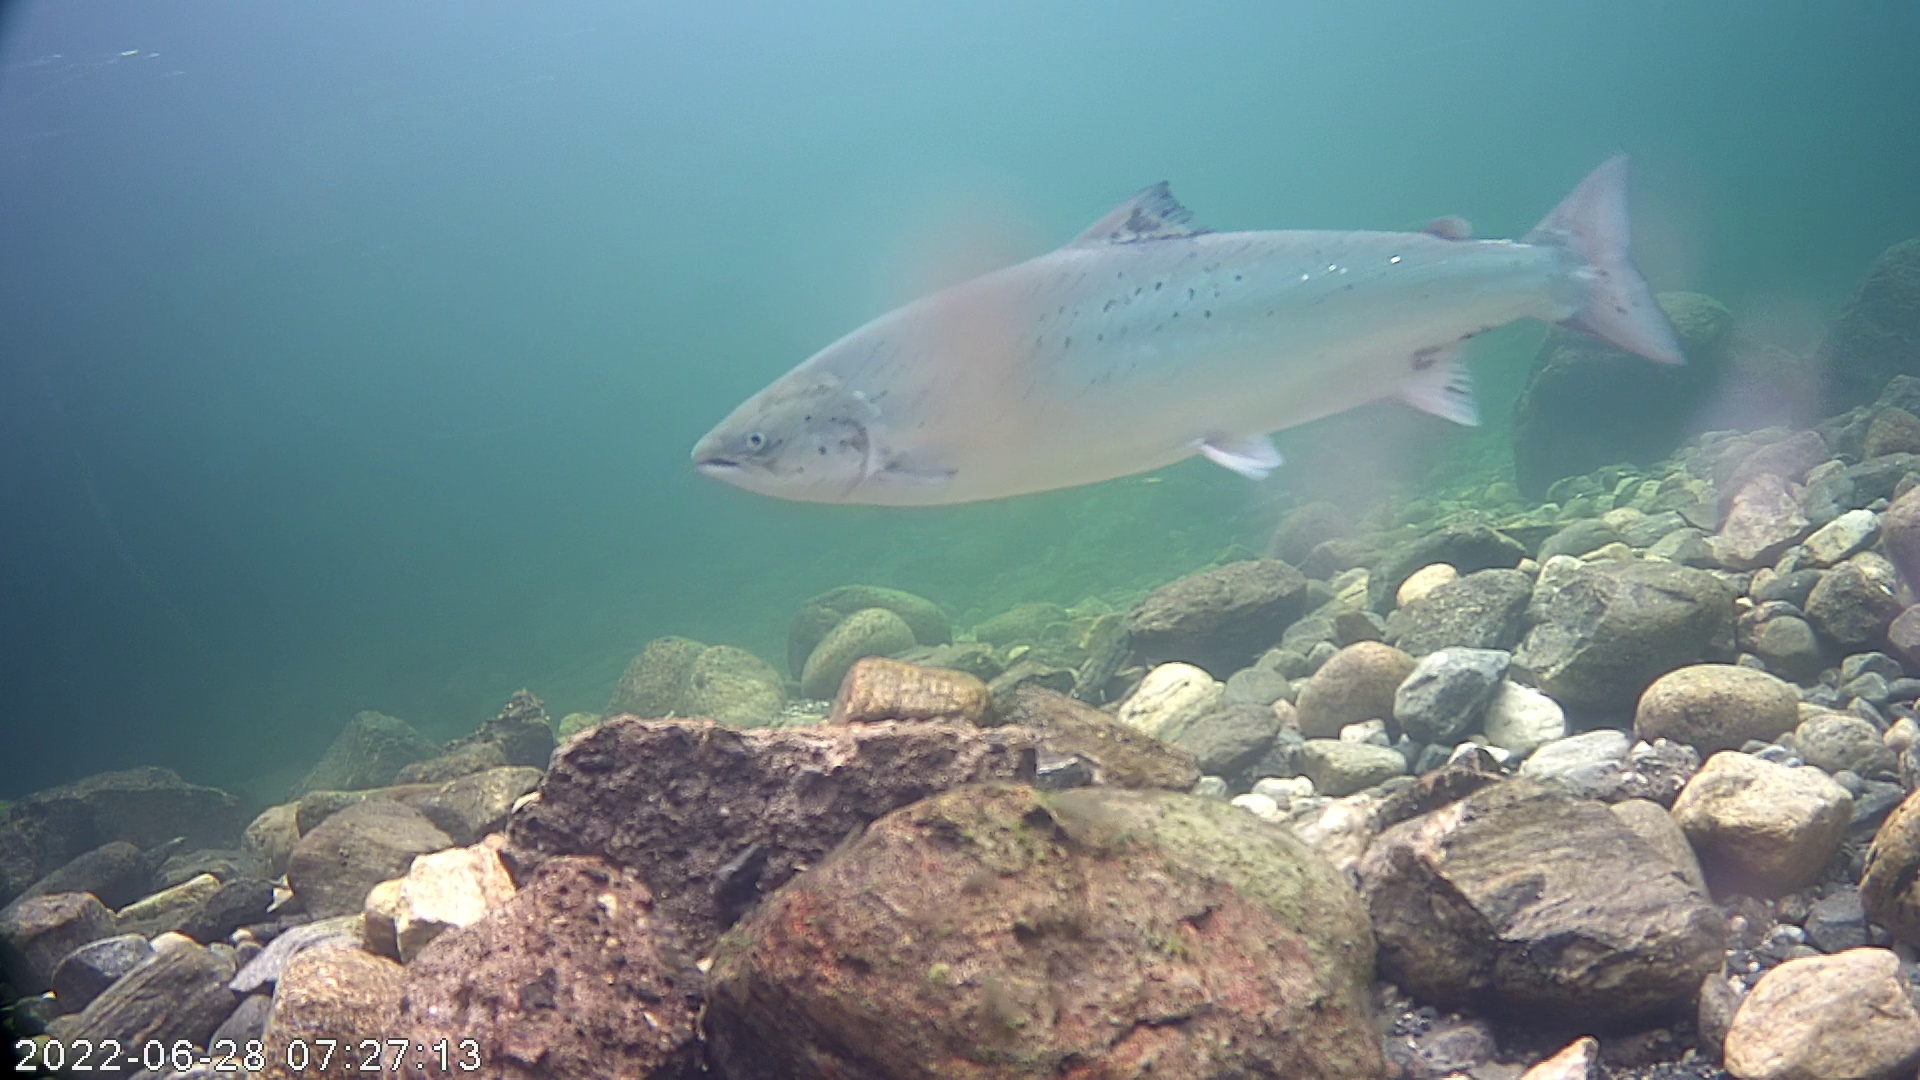salmon: (665, 113, 1712, 547)
